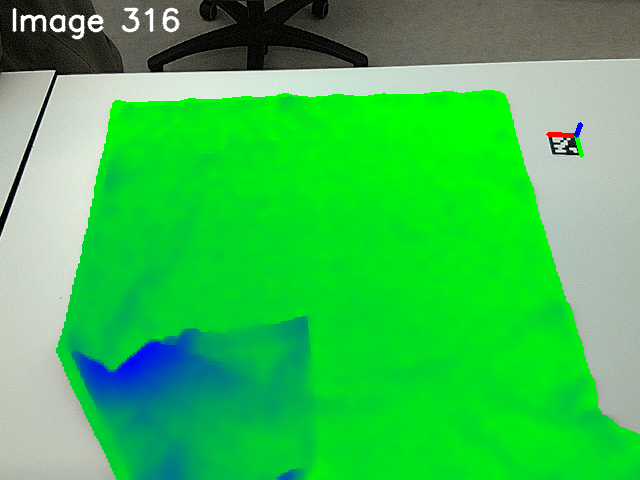V: (250, 297, 332, 359)
